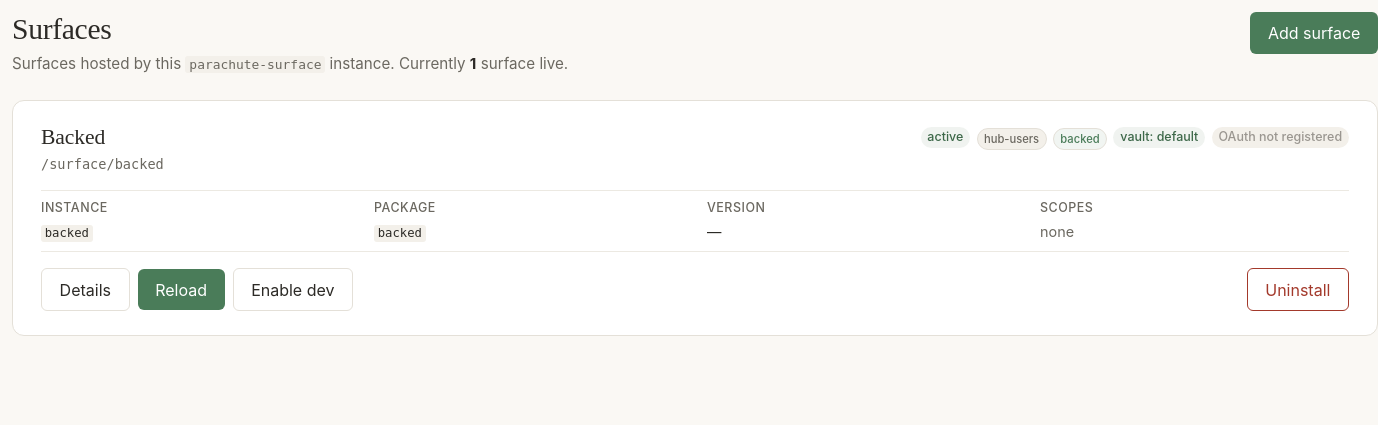
it: Modules › shared credential → connection left standing, no hub DELETE
Step 1. Click the button "Uninstall" → (1298, 290), box [1247, 268, 1349, 312]
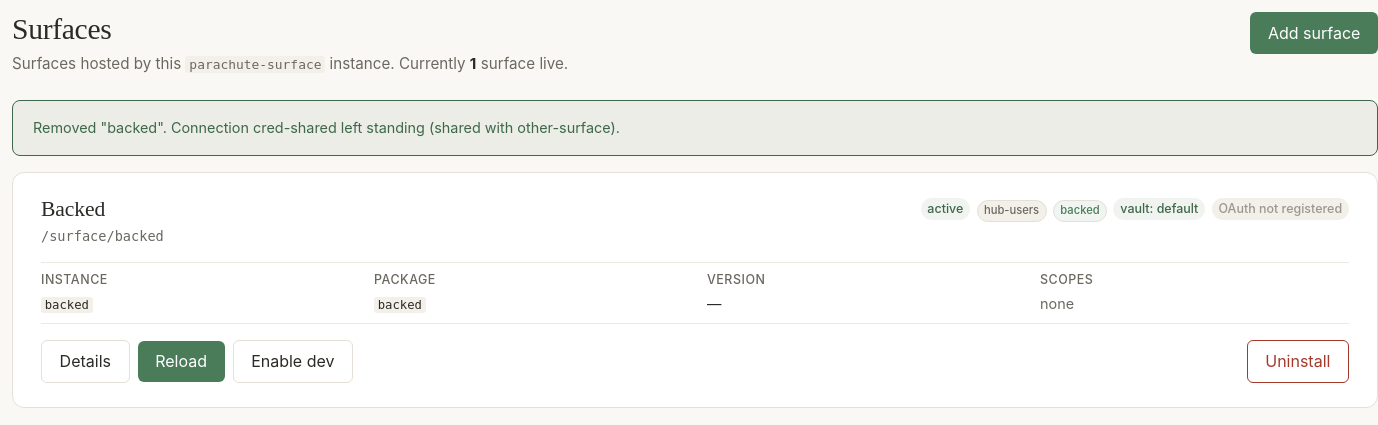
expect the text "left standing (shared with other-surface)" is shown: met, box [33, 119, 620, 136]
